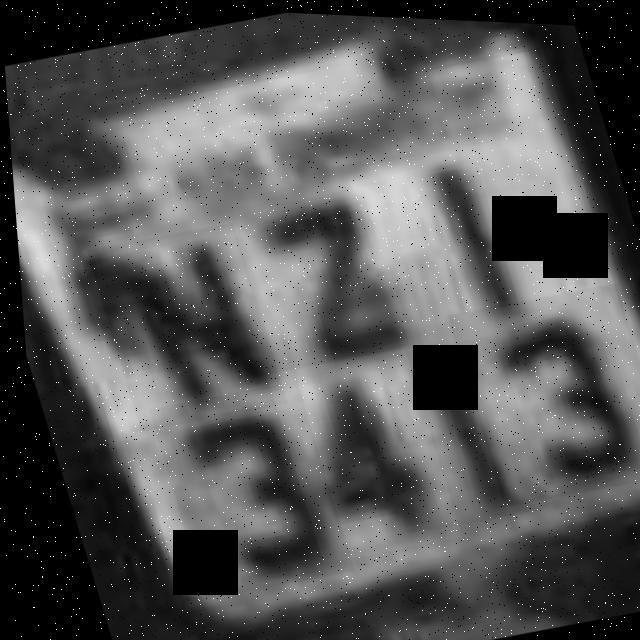1: (368, 326, 543, 531)
3: (140, 373, 348, 602), (440, 271, 640, 508)
4: (259, 339, 456, 565)
N: (81, 214, 283, 435)
Z: (226, 166, 427, 382)
